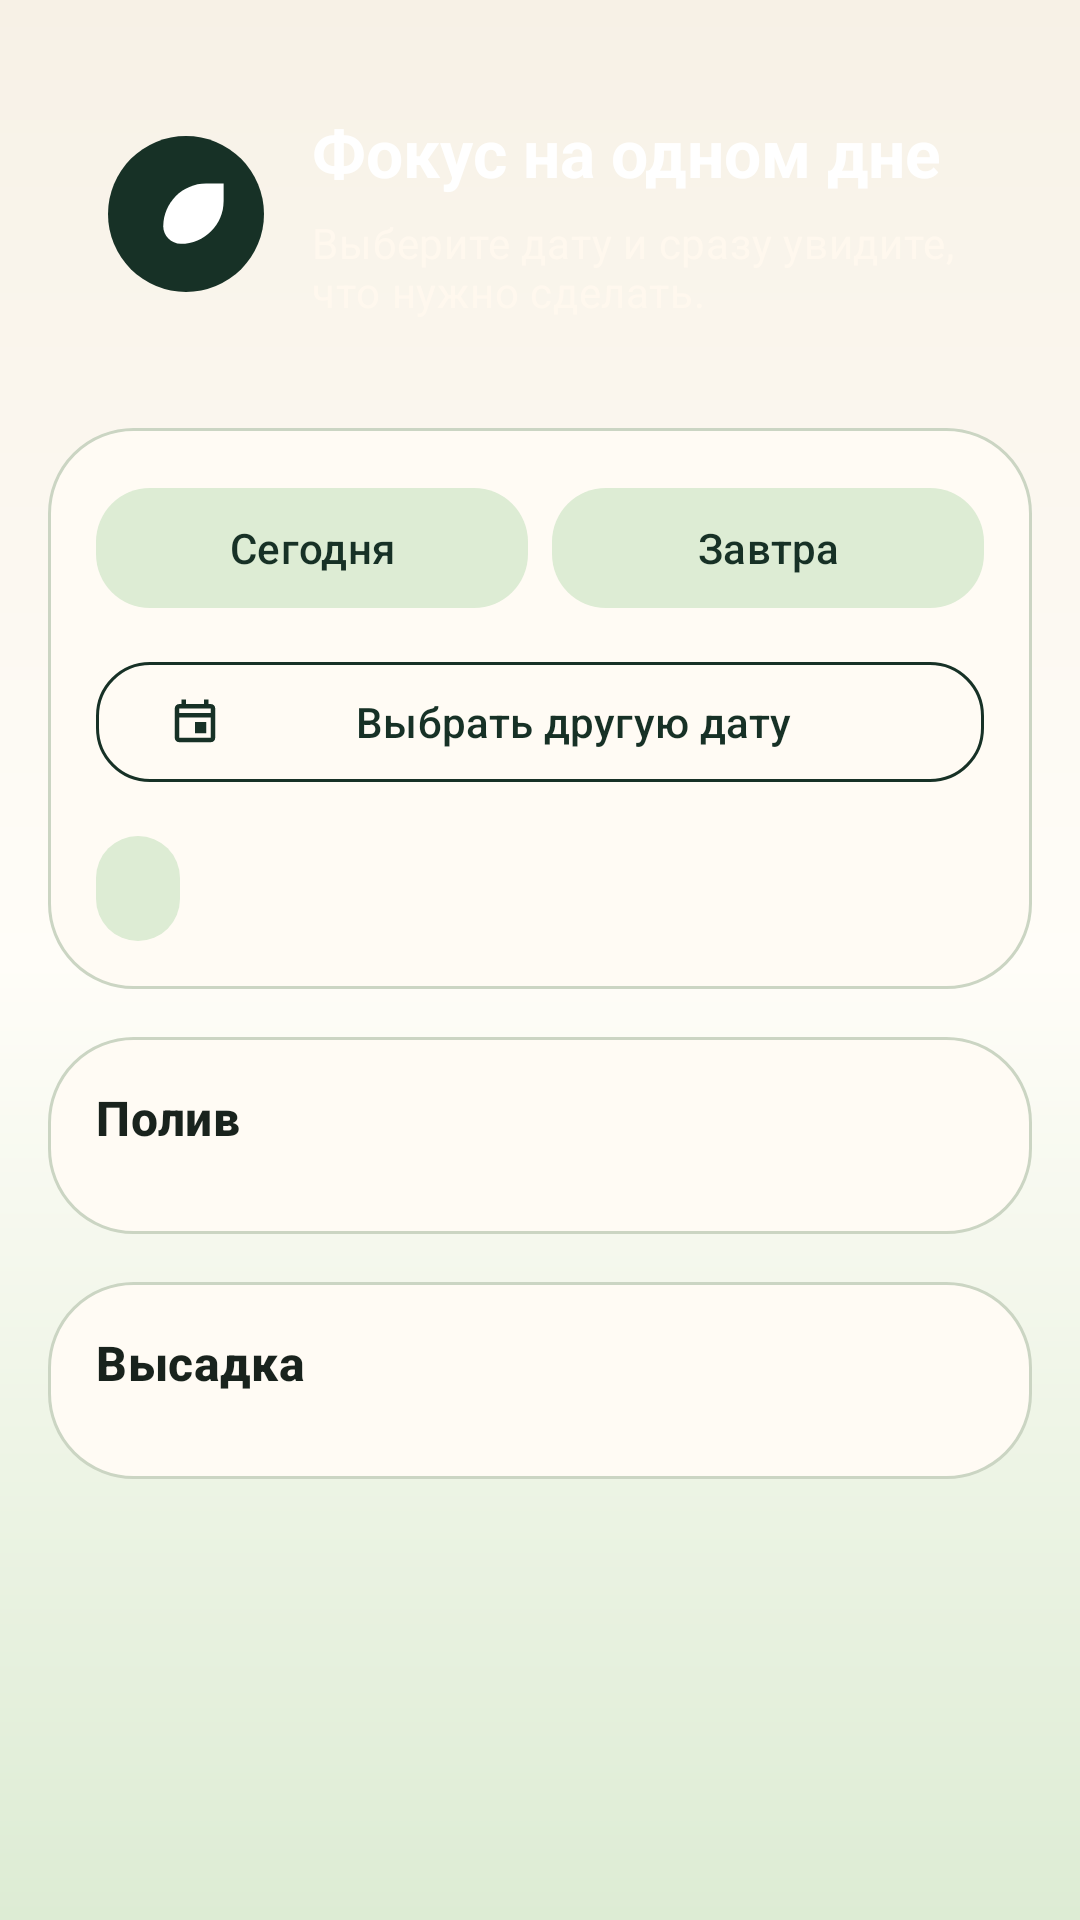

Locate icon controls on the screen. Image size 1080px x 1920px, boxes as (x1=x1, y1=y1, x2=x2, y2=y2).
plant leaf: (x1=108, y1=136, x2=264, y2=292)
